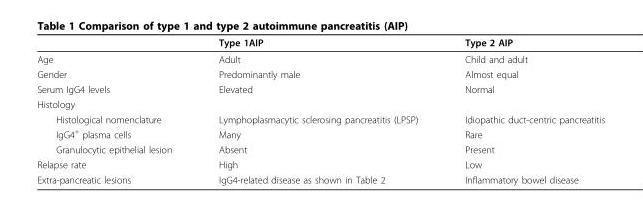table: (36, 36, 604, 184)
table column: (194, 36, 440, 184), (440, 36, 604, 184), (36, 36, 194, 184)
table column header: (36, 36, 604, 50)
table projected row header: (36, 96, 604, 111)
table row: (36, 50, 604, 66), (36, 125, 604, 141), (36, 66, 604, 81), (36, 81, 604, 96), (36, 96, 604, 111), (36, 141, 604, 156), (36, 156, 604, 171), (36, 36, 604, 50), (36, 111, 604, 125), (36, 171, 604, 184)
